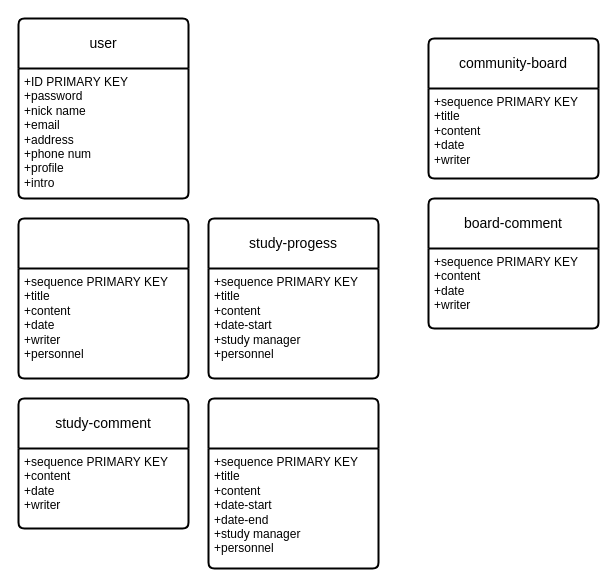
Image size: 616x586. Some labels were removed from this diagram. Here are the shapes that lost their labels. From the top down, the box of each, then its label:
(17, 217, 189, 379): community-study
(207, 397, 379, 569): study-ended
